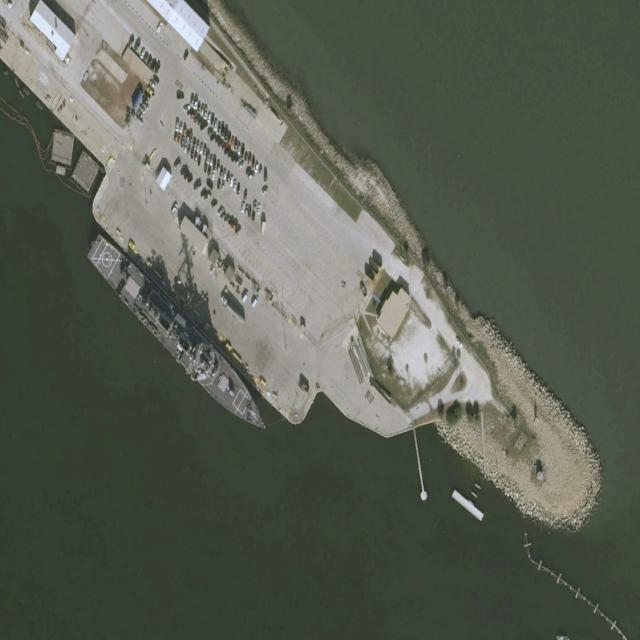Destroyer: (84, 226, 277, 446)
